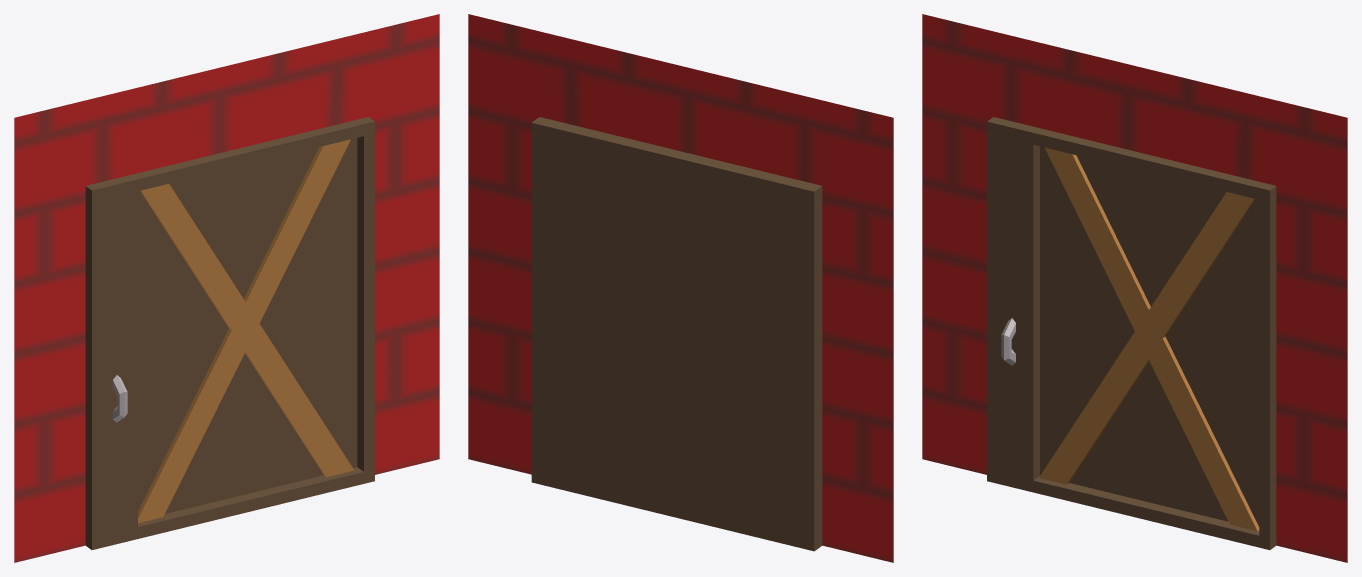
File: DoorOpening.fbx
3 renders of one model, left to right at view 1: azimuth 30°, elevation 25°; view 2: azimuth 150°, elevation 25°; view 3: azimuth 330°, elevation 25°, orthographic.
Parts seen in each view (by area): view 1: Door1, DoorWall; view 2: Door1, DoorWall; view 3: Door1, DoorWall.
Boxes of the visible parts, left/top/right/bottom form: Door1: left=85, top=117, right=374, bottom=549; DoorWall: left=14, top=14, right=439, bottom=562; Door1: left=531, top=117, right=822, bottom=551; DoorWall: left=468, top=14, right=893, bottom=562; Door1: left=987, top=117, right=1276, bottom=549; DoorWall: left=922, top=14, right=1347, bottom=562.
Size of the model in its own units: 8.31 by 8.31 by 0.755.
